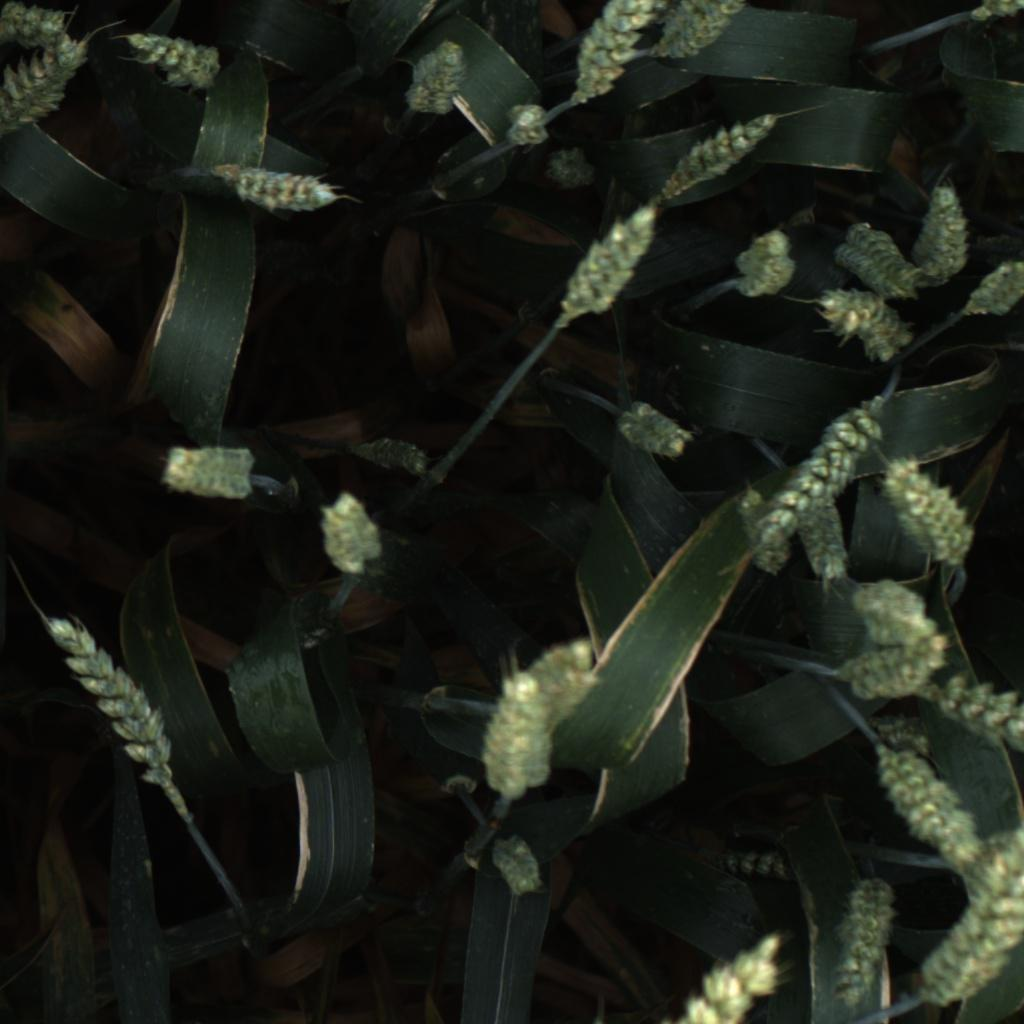0-0: (38, 610, 184, 795), (913, 806, 1024, 1008), (750, 399, 885, 554), (619, 925, 790, 1024), (874, 748, 1000, 864), (558, 198, 667, 326), (874, 450, 988, 567), (914, 663, 1024, 781), (476, 661, 559, 800), (0, 35, 92, 160), (833, 618, 953, 711), (666, 101, 776, 198), (572, 0, 673, 105), (522, 629, 613, 745), (831, 875, 899, 1010), (643, 0, 773, 65), (815, 289, 916, 372), (212, 160, 353, 219), (911, 174, 979, 296), (119, 26, 226, 103), (308, 485, 390, 583), (391, 29, 474, 124), (157, 428, 260, 501), (824, 215, 919, 294), (845, 576, 944, 651), (788, 482, 855, 591), (607, 399, 701, 466), (731, 483, 793, 581), (730, 223, 803, 300), (482, 829, 556, 903), (953, 254, 1024, 329), (713, 842, 802, 893), (0, 0, 80, 55), (871, 710, 938, 773), (362, 427, 437, 483), (540, 144, 610, 194), (501, 95, 555, 149), (966, 0, 1024, 36)
